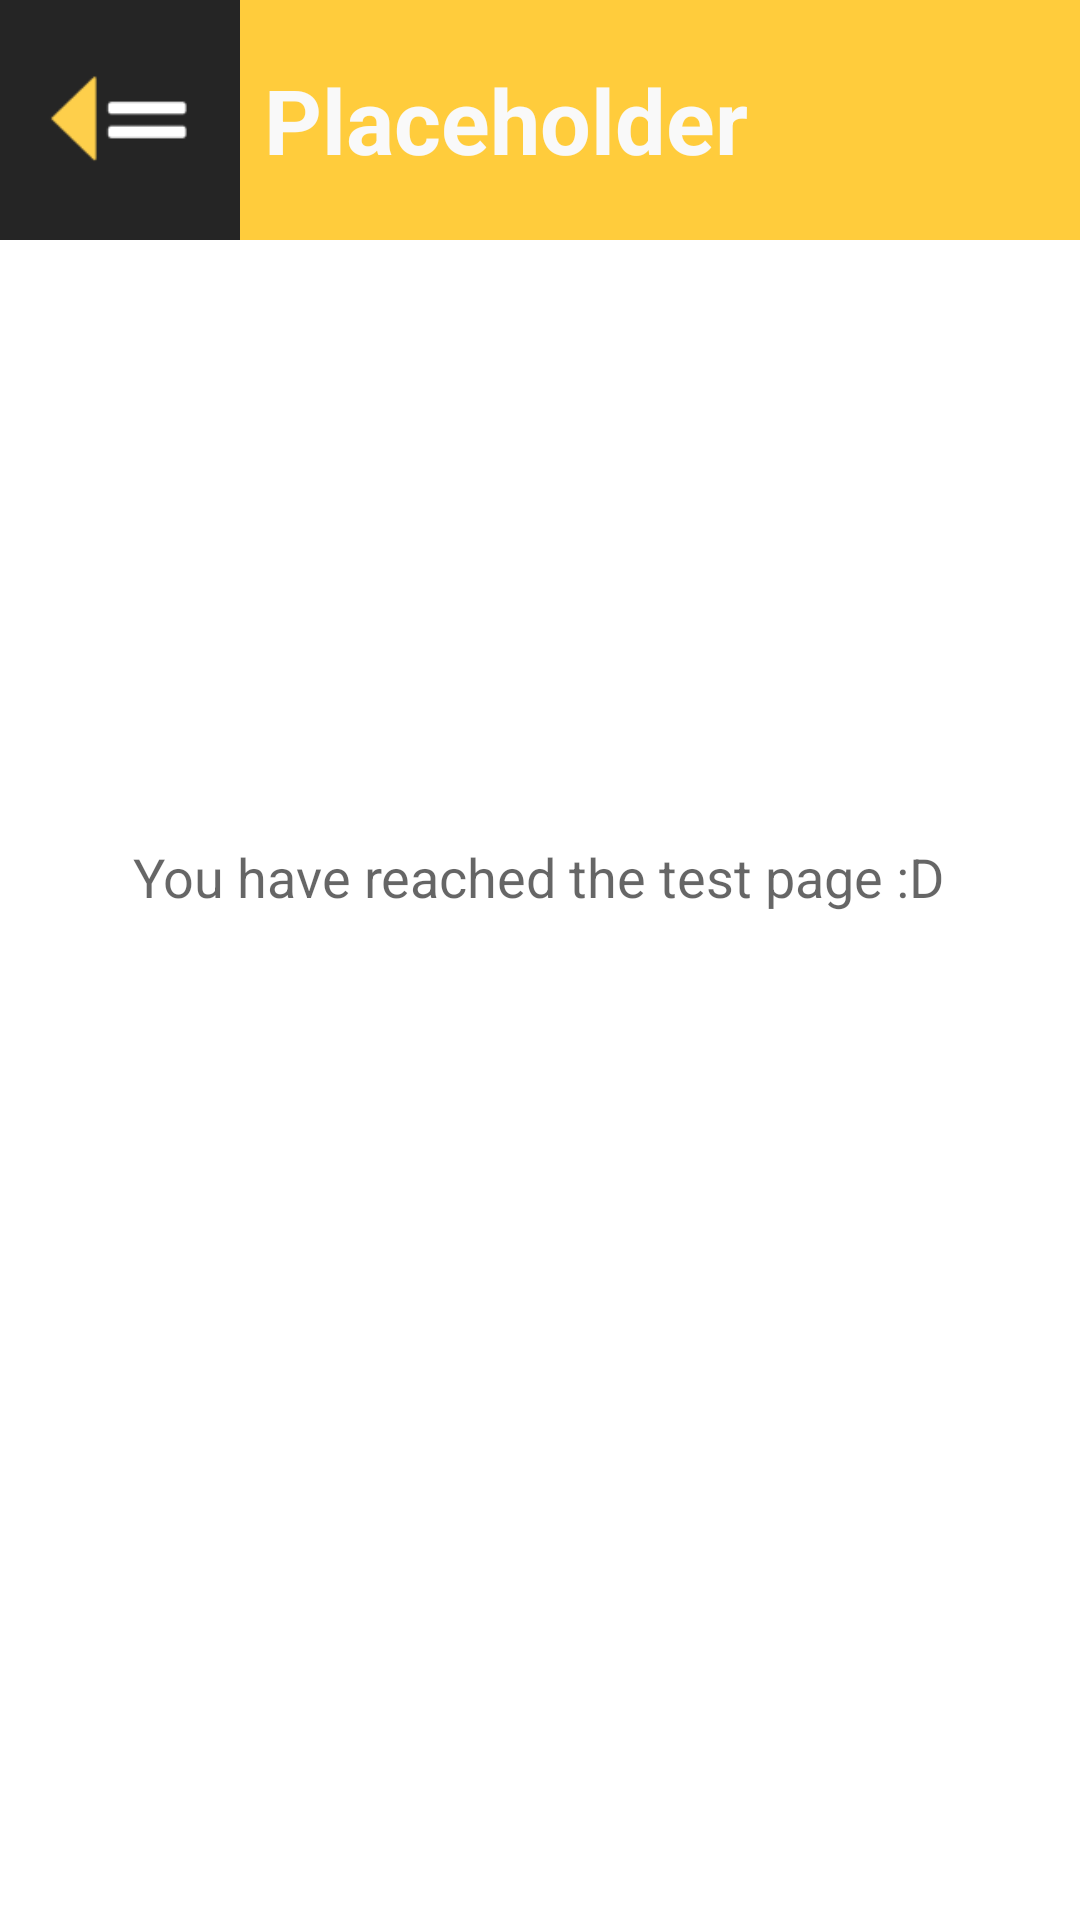

Icon click points for this 1080 × 1920 phone screenshot, format [x,y]:
back: [120,120]
